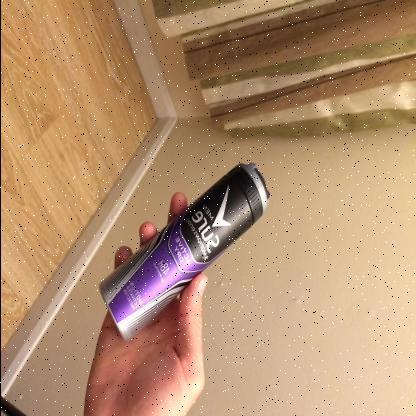metal: (96, 160, 270, 342)
